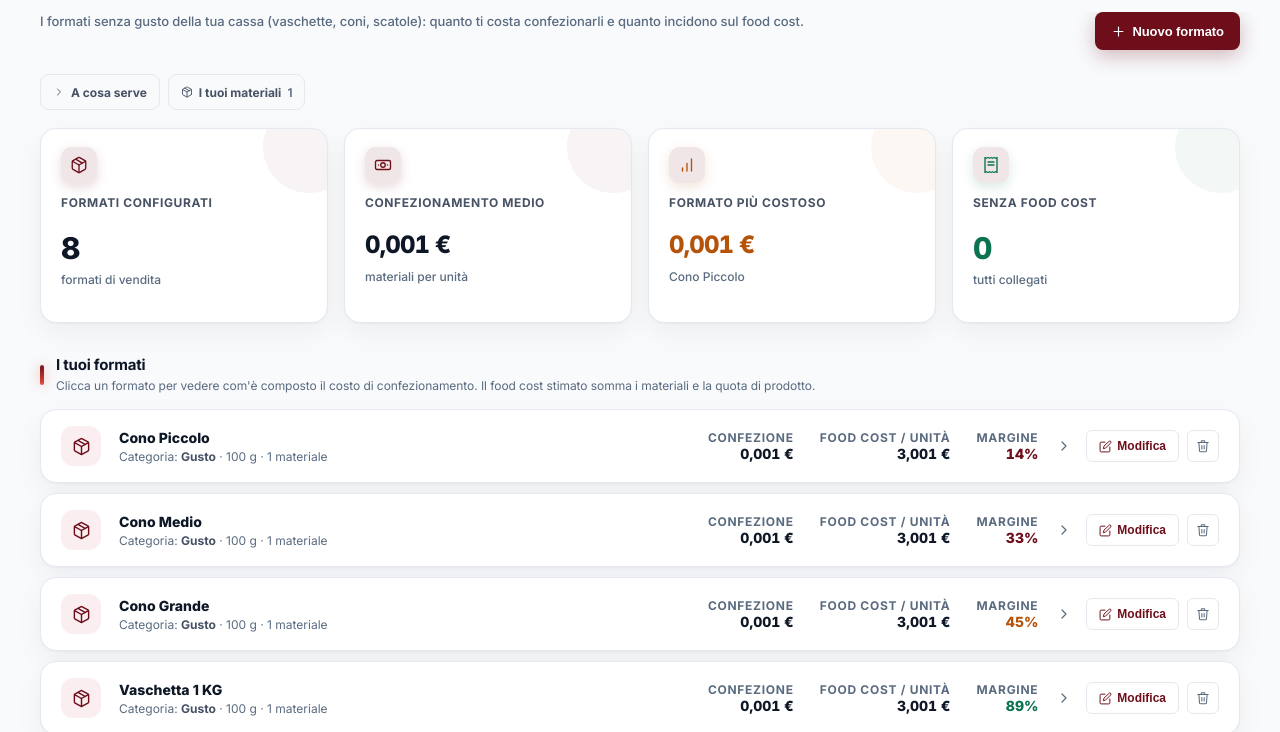
Test: Eliminare chiede prima › «Annulla» nella domanda non tocca niente
Click the button named "Elimina il formato Cono Piccolo" at (1203, 446), box [1187,430,1219,462]
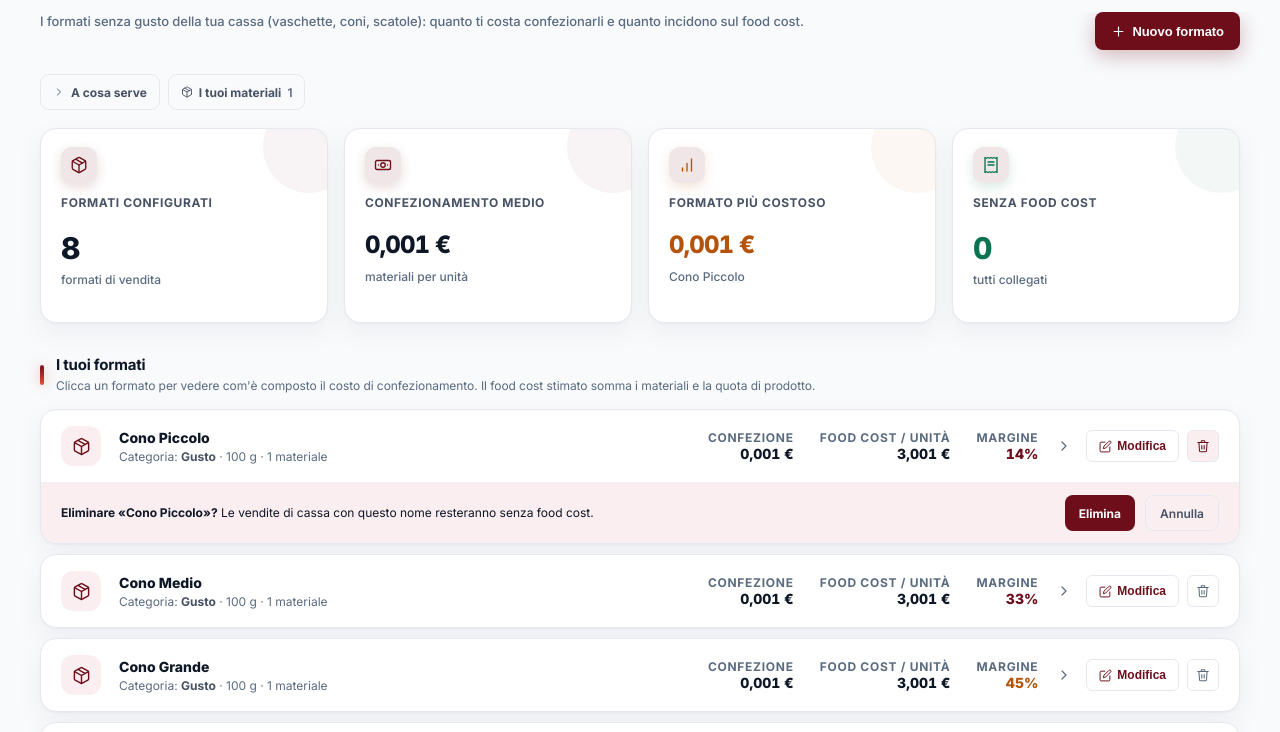
Expected: the button "Annulla" is shown
Click the button "Annulla" at (1182, 513), box [1145,495,1219,531]
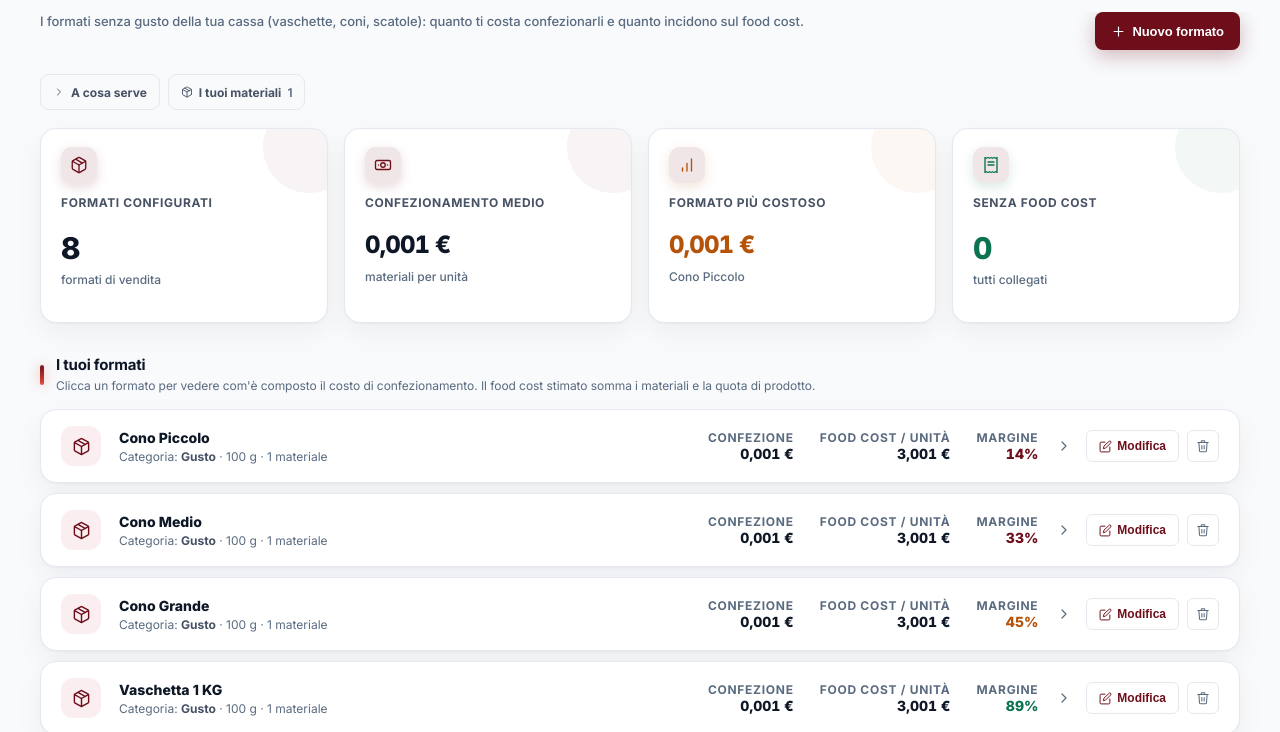
Expected: the text "Eliminare «Cono Piccolo»" is gone
